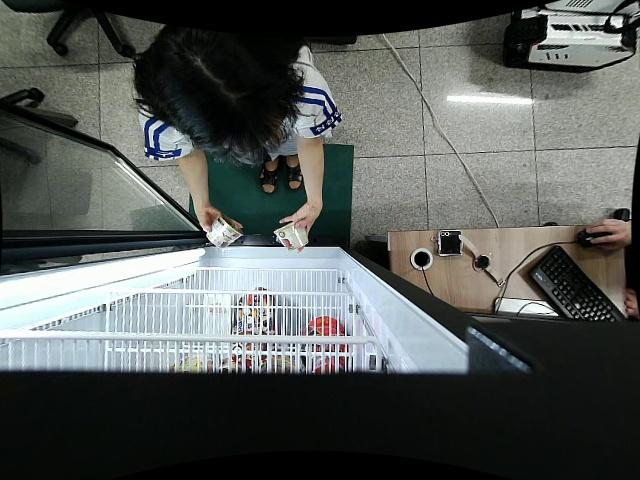00_hand: (280, 204, 319, 252), (198, 205, 243, 235)
04_chapagetti_S: (208, 215, 242, 248), (273, 221, 308, 253)
